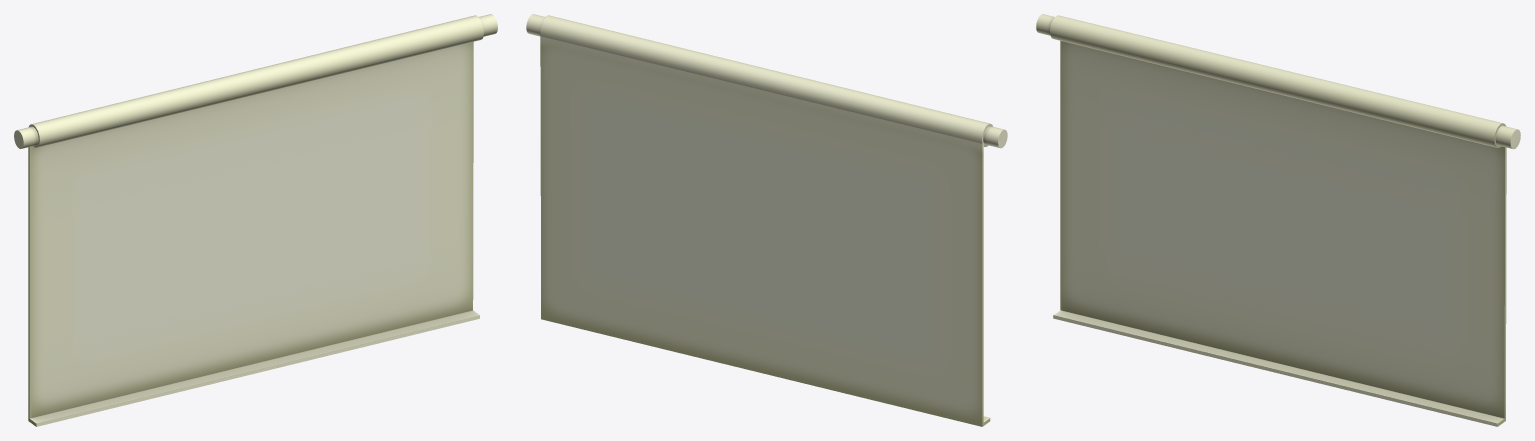
File: screen.fbx
3 renders of one model, left to right at view 1: azimuth 30°, elevation 25°; view 2: azimuth 150°, elevation 25°; view 3: azimuth 330°, elevation 25°, orthographic.
Parts seen in each view (by area): view 1: screen; view 2: screen; view 3: screen.
Part boxes in pixels (x1,y1,x2,y2): screen: (14,14,497,426); screen: (526,14,1007,426); screen: (1036,14,1520,426).
Size of the model in its own units: 529 by 320 by 24.56.
